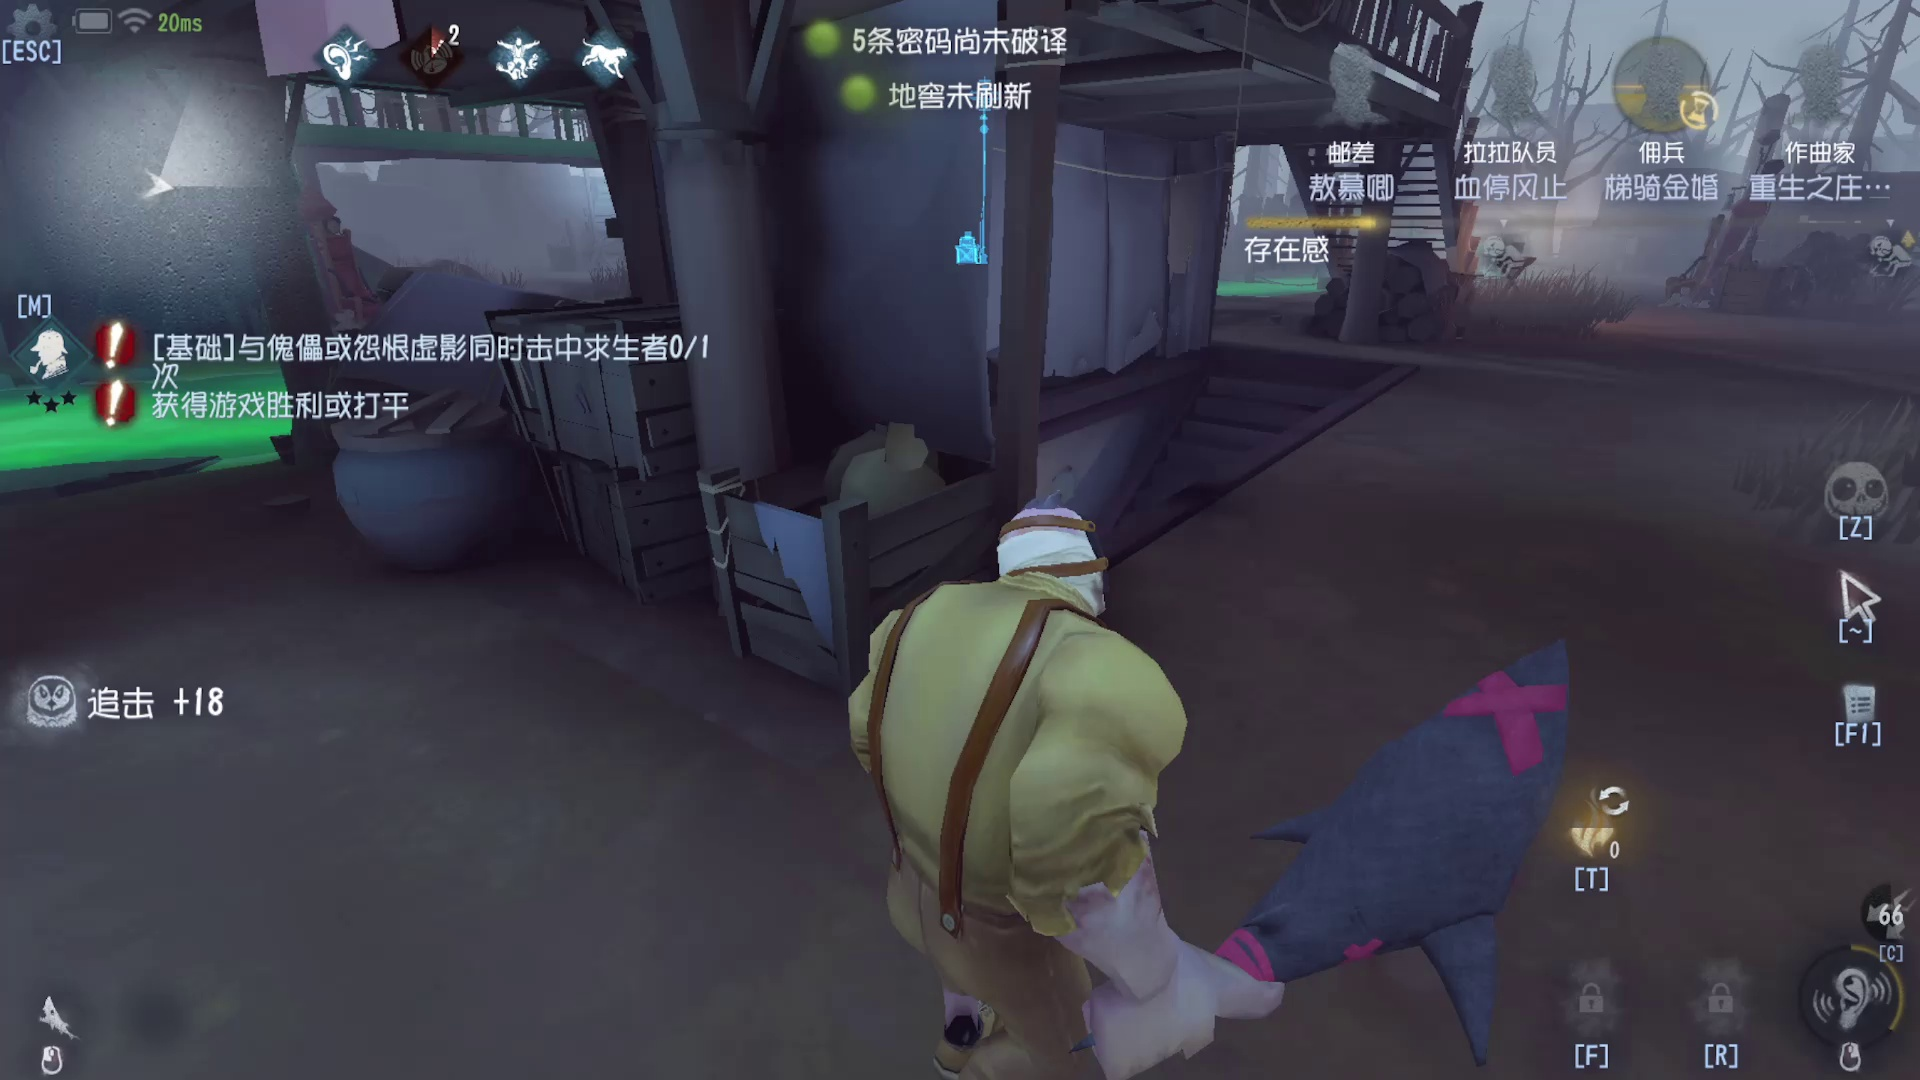密码机: (953, 75, 1010, 284)
狂欢之椅: (1671, 146, 1759, 311)
